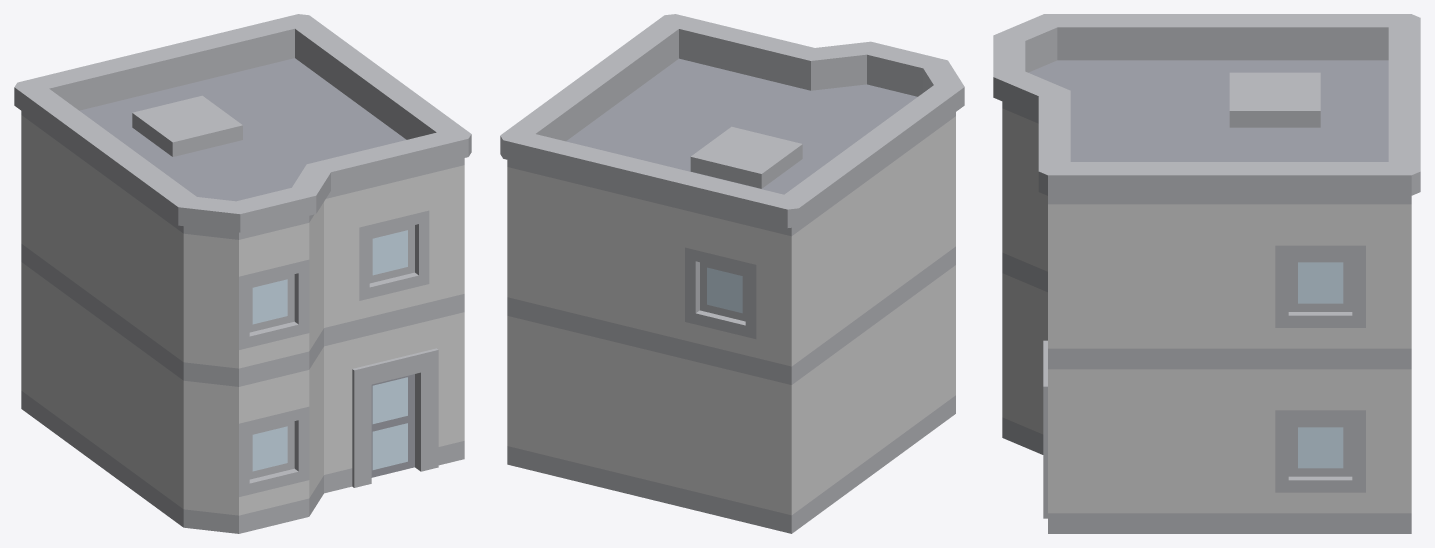
Rendered from small_buildingB.glb.
3 renders of one model, left to right at view 1: azimuth 30°, elevation 25°; view 2: azimuth 150°, elevation 25°; view 3: azimuth 270°, elevation 25°, orthographic. The views are drawn at different scales.
Visible parts, largest first — view 1: small_buildingB; view 2: small_buildingB; view 3: small_buildingB.
Boxes of the visible parts, bbox=[...] form: small_buildingB: bbox=[14, 14, 471, 533]; small_buildingB: bbox=[500, 14, 964, 533]; small_buildingB: bbox=[993, 14, 1420, 533].
Size of the model in its own units: 6.29 by 6.59 by 7.04.
